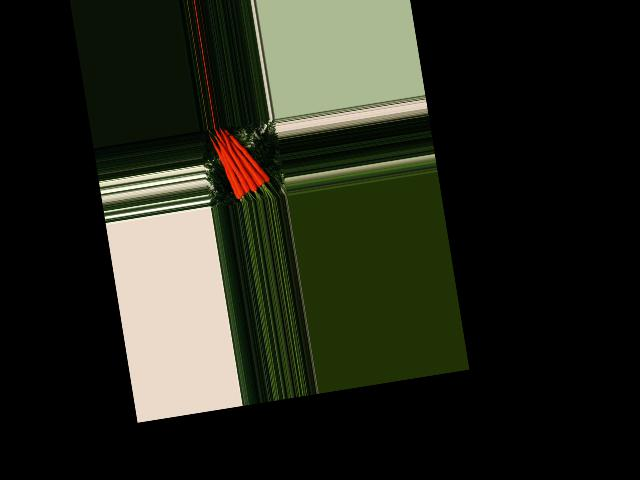carrot: (206, 129, 245, 204)
